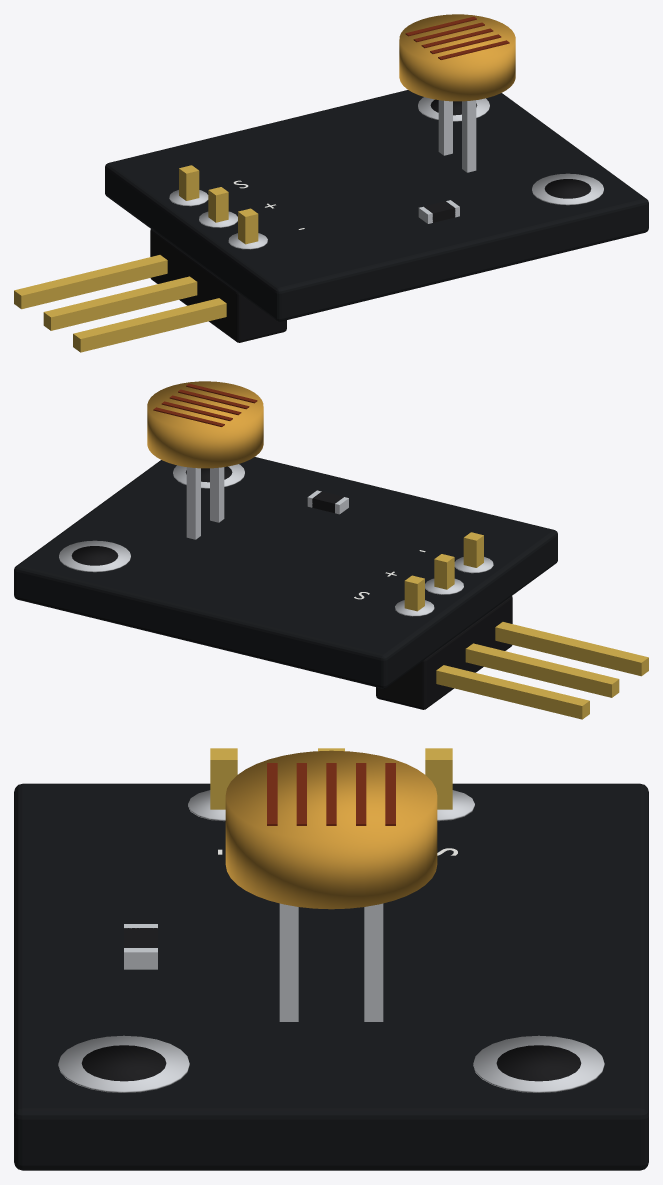
The model's file is photoresistor.glb.
3 renders of one model, top to bottom at view 1: azimuth 30°, elevation 25°; view 2: azimuth 150°, elevation 25°; view 3: azimuth 270°, elevation 25°, orthographic. The views are drawn at different scales.
Visible parts, largest first — view 1: pcb.007, part.033, header.007, pin_h.022, pin_h.023, pin_h.021, hole_ring.015, part.039, part.040, hole.015, pin_v.022, pin_v.023 (+2 smaller); view 2: pcb.007, part.033, header.007, pin_h.022, pin_h.021, pin_h.023, hole_ring.014, part.040, part.039, hole.014, pin_v.021, pin_v.022 (+2 smaller); view 3: pcb.007, part.033, hole_ring.014, hole_ring.015, hole.014, hole.015, part.039, part.040, pin_v.021, pin_v.023, smd_cap.015, pad.021 (+7 smaller).
Part boxes in pixels (box(x1,y1,x2,y2)): pcb.007: box(105, 90, 648, 321); part.033: box(399, 14, 515, 101); header.007: box(150, 229, 286, 342); pin_h.022: box(43, 276, 197, 330); pin_h.023: box(73, 298, 226, 352); pin_h.021: box(14, 255, 167, 309); hole_ring.015: box(532, 173, 603, 205); part.039: box(462, 100, 476, 172); part.040: box(438, 100, 452, 155); hole.015: box(544, 179, 591, 198); pin_v.022: box(208, 187, 228, 222); pin_v.023: box(238, 208, 258, 244); pcb.007: box(14, 457, 557, 688); part.033: box(147, 381, 263, 468); header.007: box(376, 596, 512, 709); pin_h.022: box(465, 643, 619, 697); pin_h.021: box(436, 665, 589, 719); pin_h.023: box(495, 622, 648, 676); hole_ring.014: box(59, 540, 130, 572); part.040: box(186, 467, 200, 539); part.039: box(210, 467, 224, 522); hole.014: box(71, 546, 118, 565); pin_v.021: box(404, 575, 424, 611); pin_v.022: box(434, 554, 454, 589); pcb.007: box(14, 783, 648, 1170); part.033: box(225, 750, 437, 909); hole_ring.014: box(473, 1035, 604, 1092); hole_ring.015: box(58, 1035, 189, 1092); hole.014: box(496, 1045, 581, 1081); hole.015: box(81, 1045, 166, 1081); part.039: box(279, 903, 298, 1021); part.040: box(364, 903, 383, 1021); pin_v.021: box(425, 748, 452, 809); pin_v.023: box(210, 748, 237, 809); smd_cap.015: box(124, 948, 157, 969); pad.021: box(437, 790, 474, 821).
Bounding box in the file's own units: 0.0256 × 0.00995 × 0.015.
